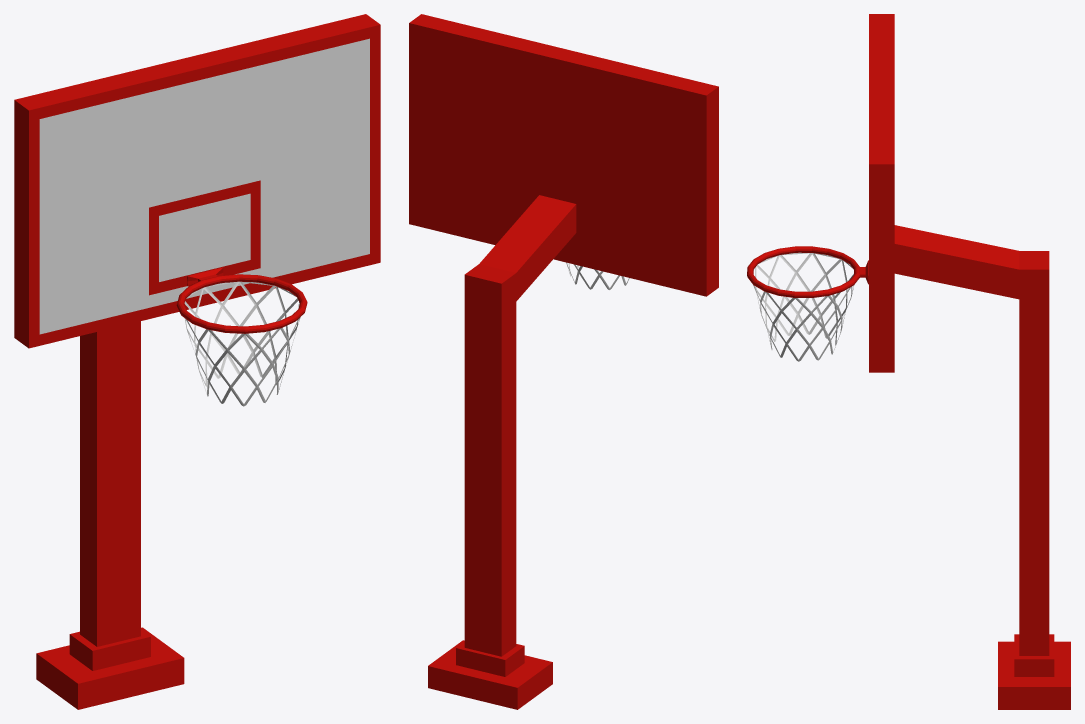
Rendered from hoop.fbx.
3 renders of one model, left to right at view 1: azimuth 30°, elevation 25°; view 2: azimuth 150°, elevation 25°; view 3: azimuth 270°, elevation 25°, orthographic. The views are drawn at different scales.
Parts seen in each view (by area): view 1: Cube, Torus.001, Torus; view 2: Cube; view 3: Cube, Torus.001, Torus.
Part boxes in pixels (x1,y1,x2,y2): Cube: (14, 14, 380, 709); Torus.001: (184, 281, 300, 406); Torus: (176, 267, 307, 333); Cube: (409, 14, 718, 709); Cube: (869, 14, 1070, 709); Torus.001: (753, 252, 854, 361); Torus: (747, 246, 868, 297).
Bounding box in the file's own units: 309 × 574 × 282.
